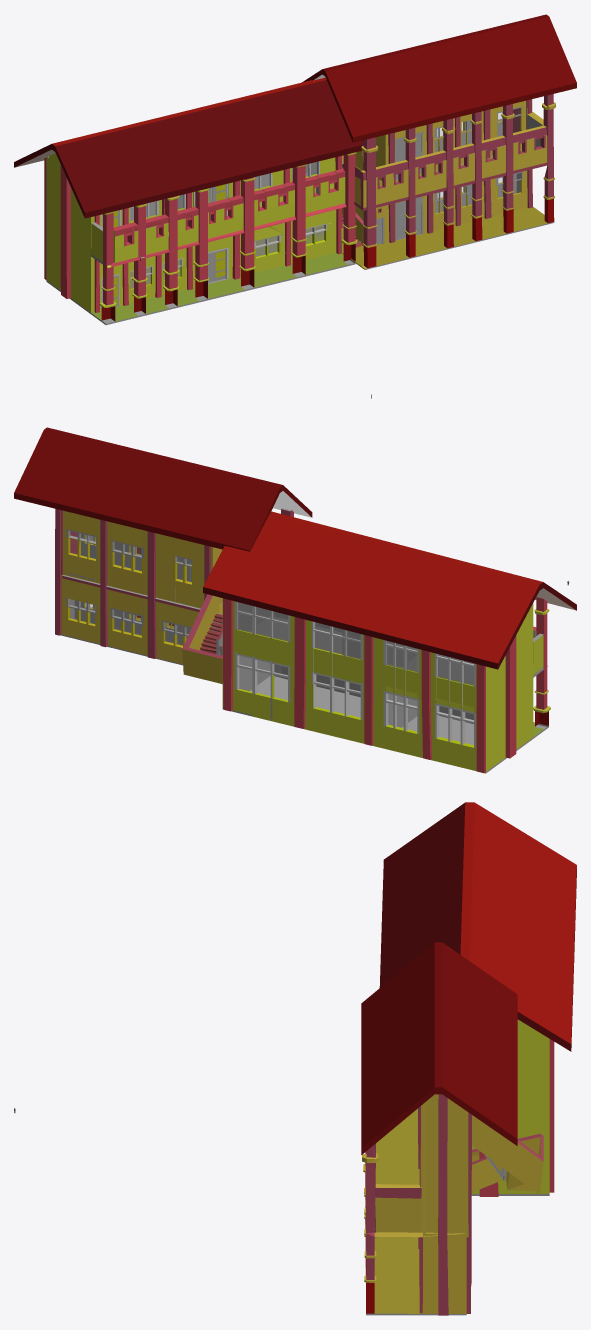
The picture shows the model from 3 angles, top to bottom: view 1: azimuth 30°, elevation 25°; view 2: azimuth 150°, elevation 25°; view 3: azimuth 270°, elevation 25°; orthographic projection. The views are drawn at different scales.
Visible parts, largest first — view 1: skpD066_1; view 2: skpD066_1; view 3: skpD066_1.
Part boxes in pixels (x1,y1,x2,y2): skpD066_1: (14, 14, 576, 325); skpD066_1: (14, 427, 576, 773); skpD066_1: (361, 802, 576, 1315).
Size of the model in its own units: 188 by 68.7 by 143.
